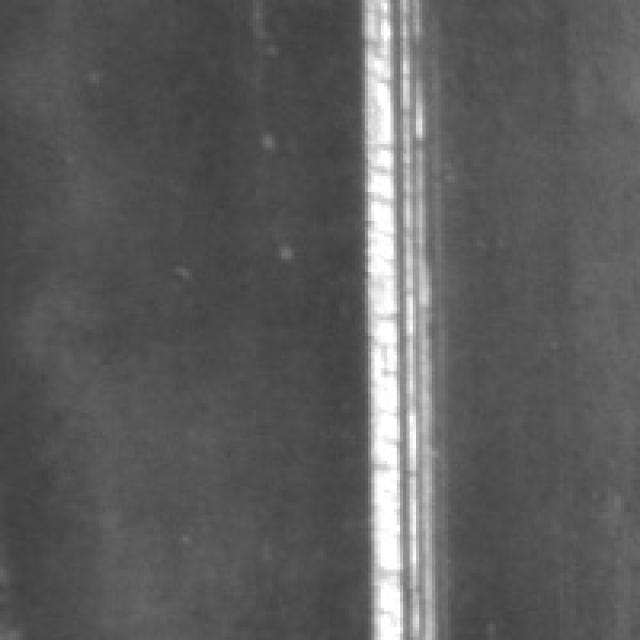scratches: (362, 0, 464, 634)
